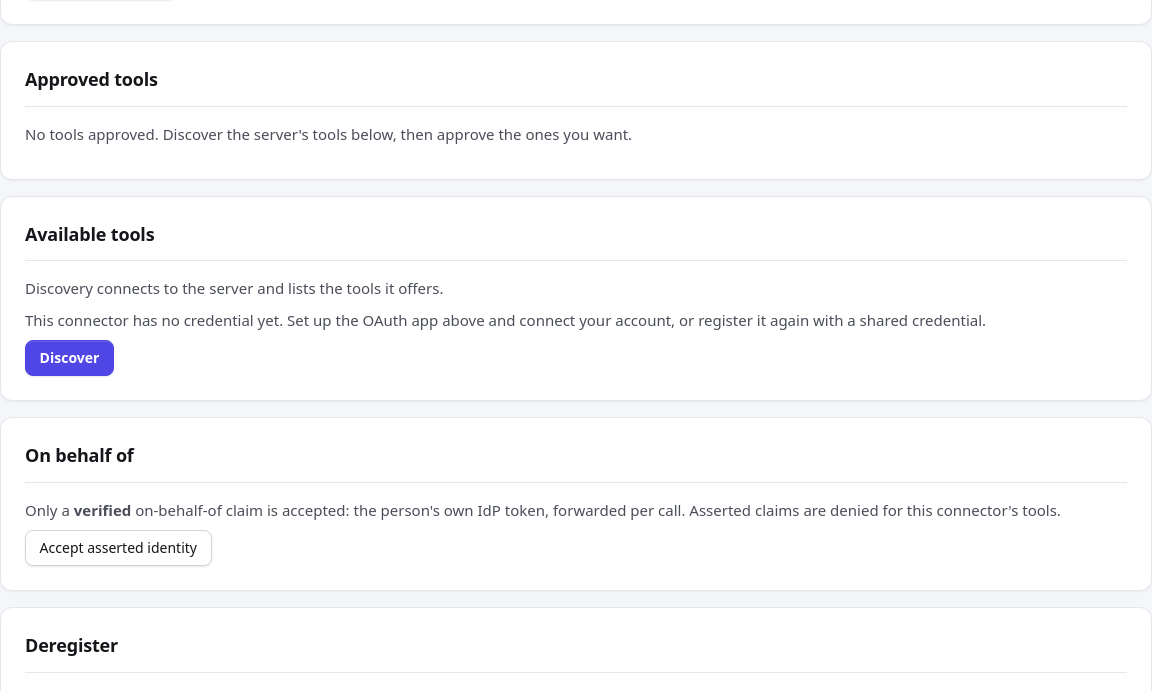
Test: looking at the server › shows each argument's name and whether it is required
The image size is (1152, 691).
(page scrolled)
Click the button "Discover".
click(70, 358)  # box x1=25 y1=340 x2=114 y2=376
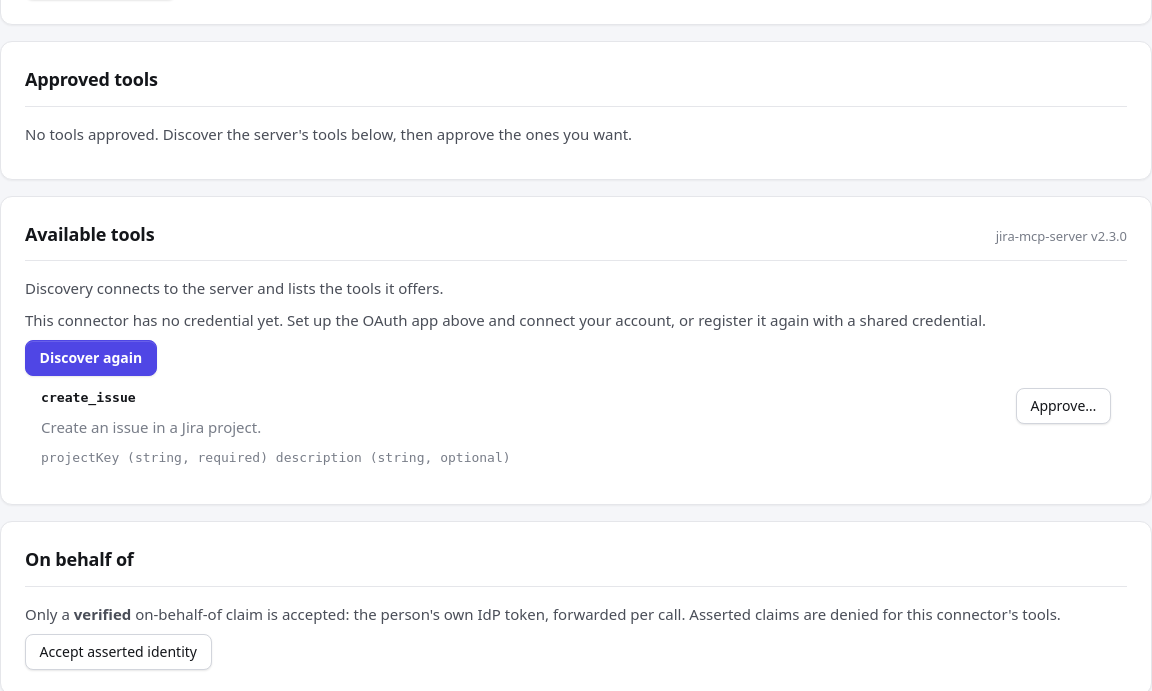
Expected: the text "projectKey (string, required) description (string, optional)" is shown, x1=41 y1=450 x2=511 y2=464
Expected: the text "jira-mcp-server v2.3.0" is shown, x1=996 y1=226 x2=1127 y2=246
